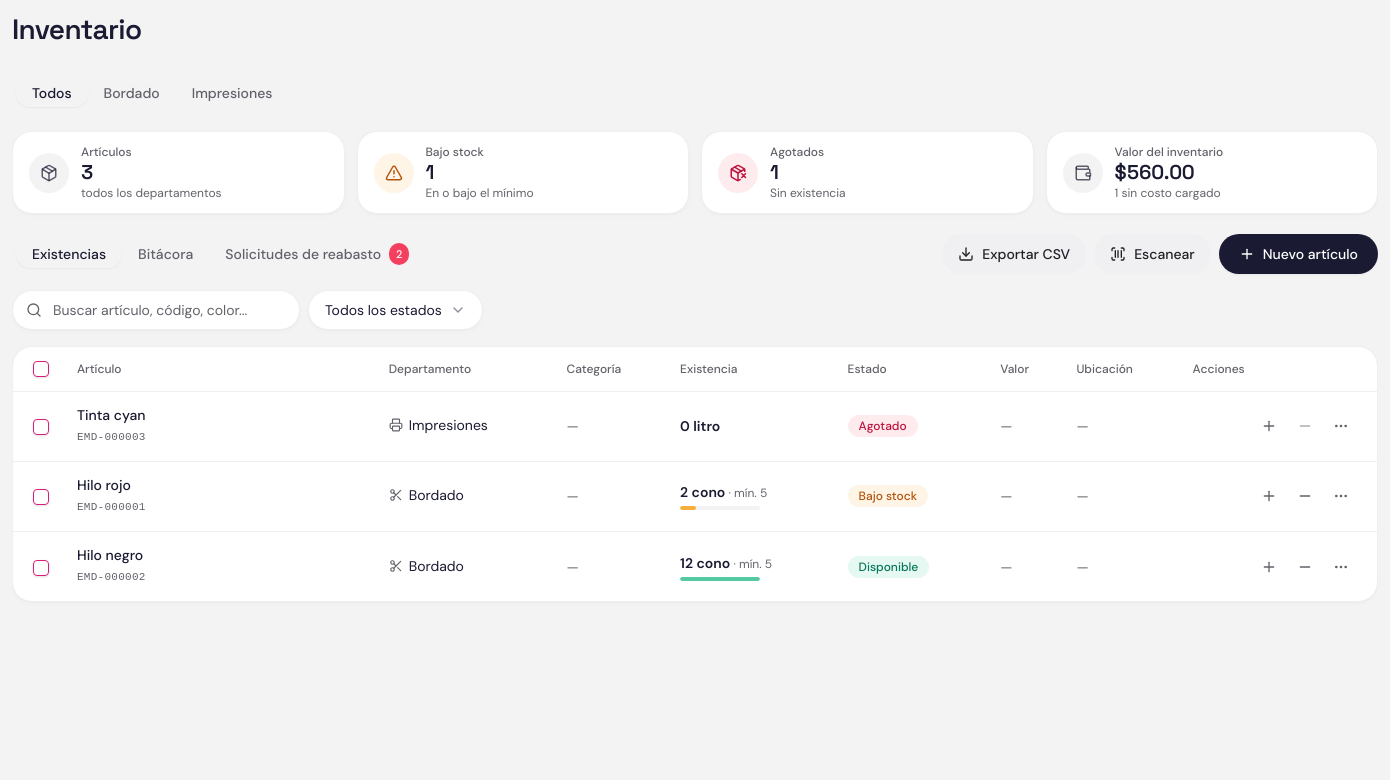
InventarioPage › cambia de departamento con las pestañas
Click the tab "Impresiones". click: (232,93)
box: [176,79,288,107]
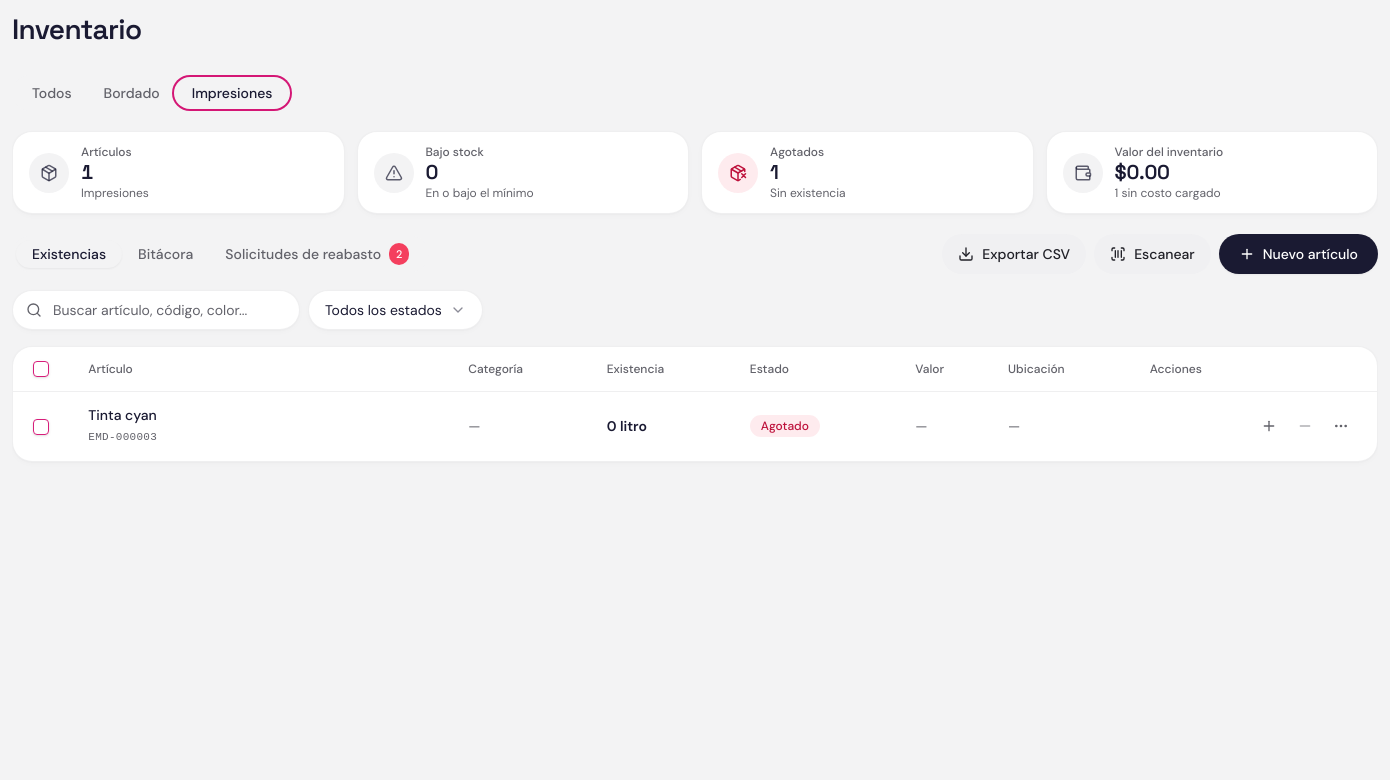
Expected: the text "Tinta cyan" is shown, [88,406,157,424]
Result: the text "Hilo rojo" is gone
